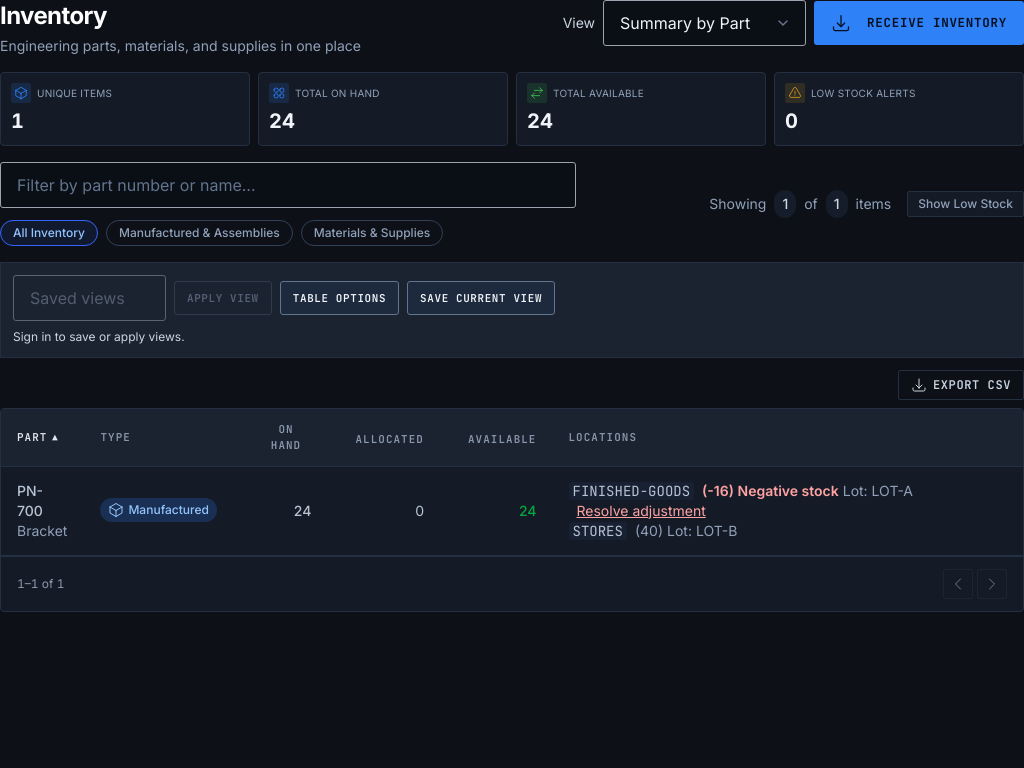
preserves entered correction and shows the API error if the adjustment fails
Click the button "Resolve adjustment": coordinates (641, 511) [576, 501, 706, 521]
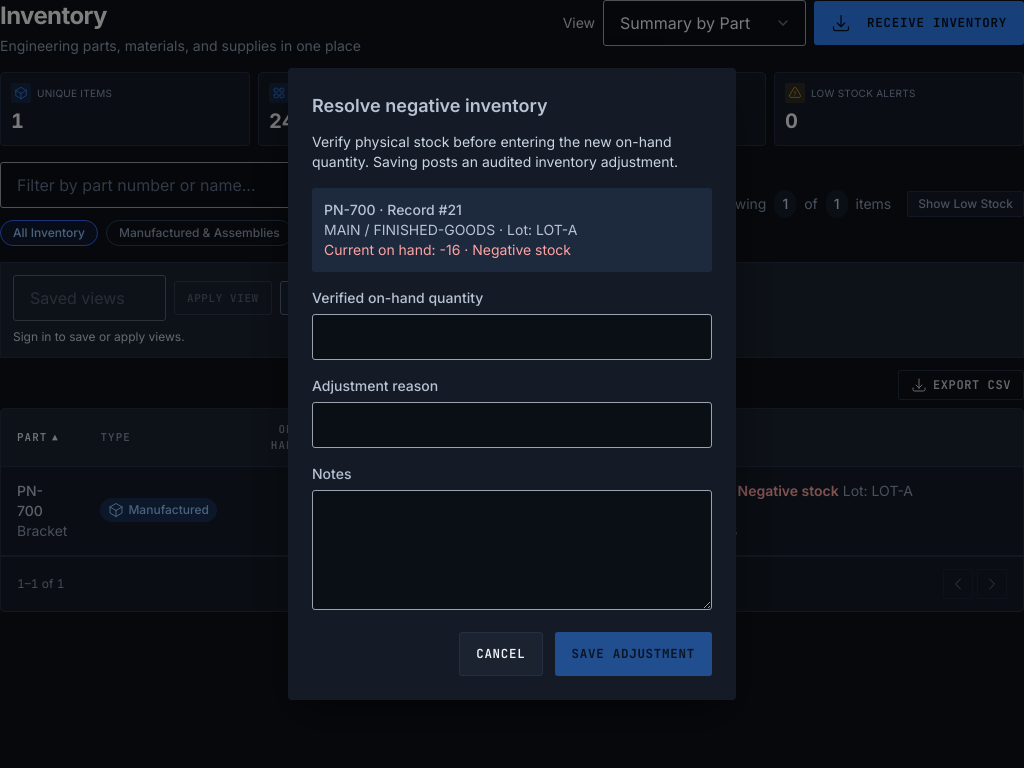
In the number field labelled "Verified on-hand quantity": coordinates (512, 337) [312, 314, 712, 360], type "0"
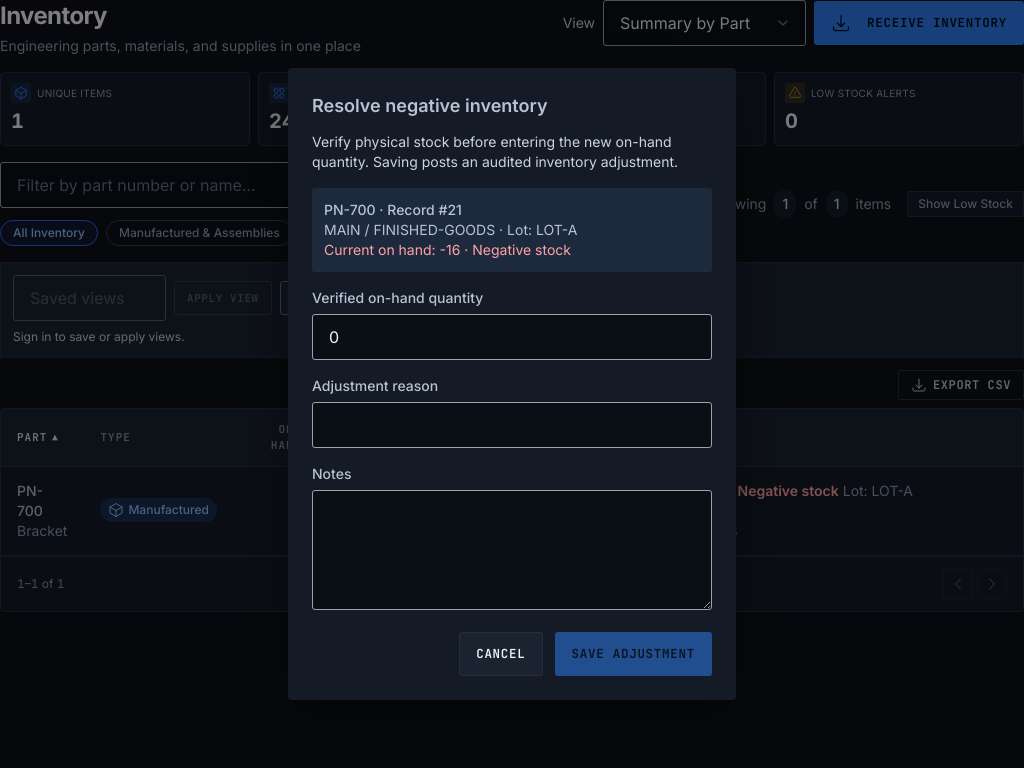
In the field labelled "Adjustment reason": coordinates (512, 425) [312, 402, 712, 448], type "Count verified"
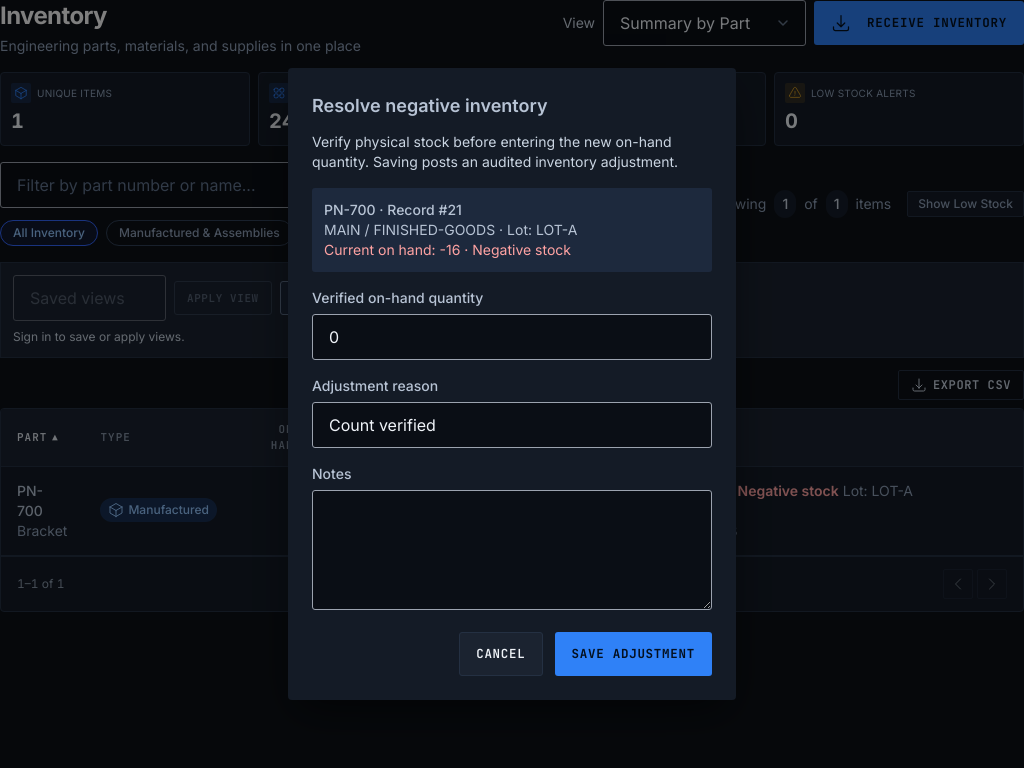
Click the button "Save adjustment": coordinates (633, 654) [554, 632, 712, 676]
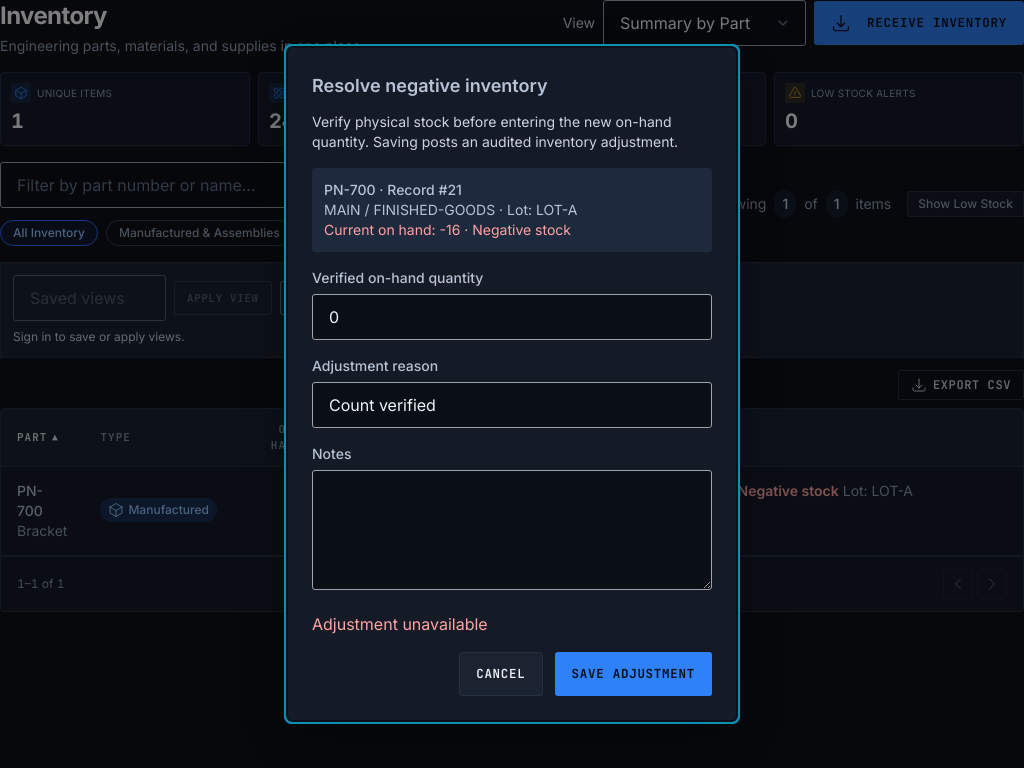
Check: the message reads "Adjustment unavailable", box [312, 614, 488, 634]
